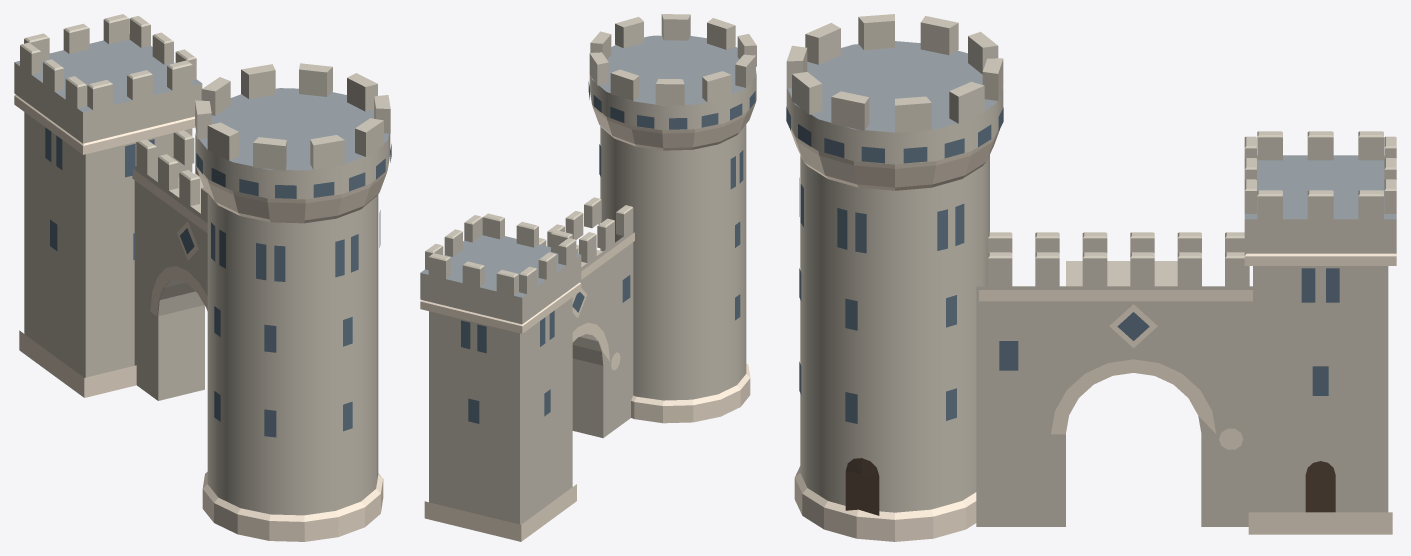
Rendered from cin-elsinore-arch.glb.
The picture shows the model from 3 angles, left to right: view 1: azimuth 30°, elevation 25°; view 2: azimuth 150°, elevation 25°; view 3: azimuth 270°, elevation 25°; orthographic projection. The views are drawn at different scales.
Visible parts, largest first — view 1: Elsinore Arch; view 2: Elsinore Arch; view 3: Elsinore Arch.
Part boxes in pixels (x1,y1,x2,y2): Elsinore Arch: (14, 14, 391, 541); Elsinore Arch: (420, 14, 756, 541); Elsinore Arch: (786, 14, 1396, 541).
Size of the model in its own units: 8.01 by 17.9 by 22.51.
